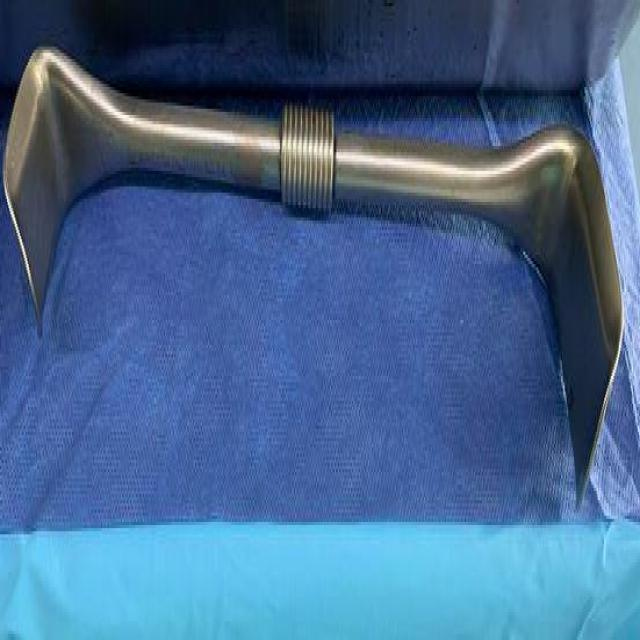Richardson: (0, 22, 626, 526)
